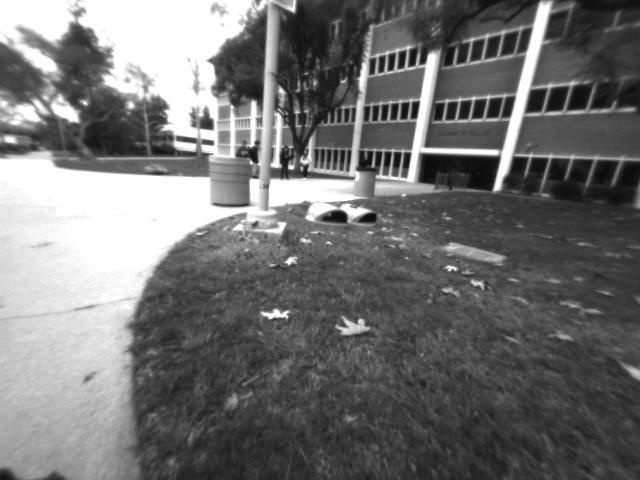trashcan: (204, 143, 255, 211), (350, 159, 378, 200)
